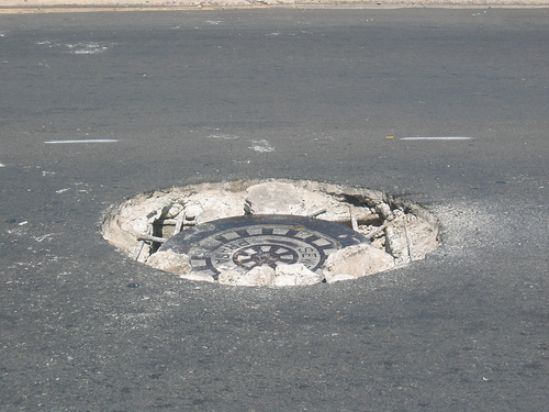pothole: (93, 173, 450, 292)
